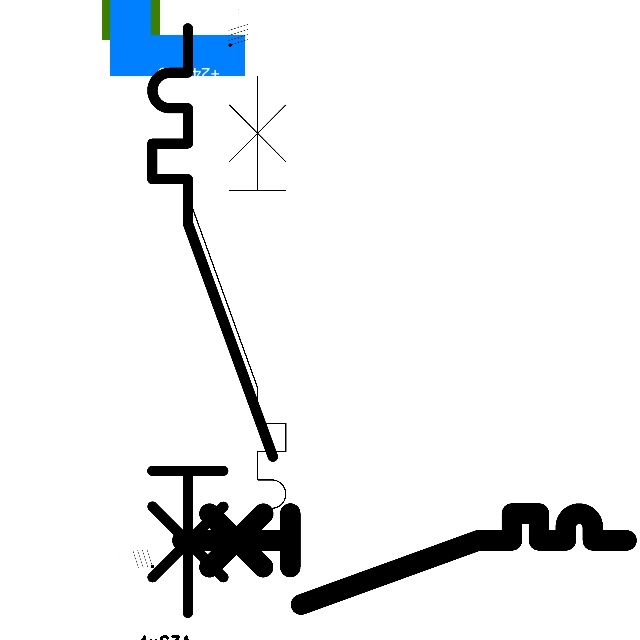interruptor_termomagnetico: (137, 13, 287, 628), (178, 64, 298, 555), (170, 502, 637, 616)
